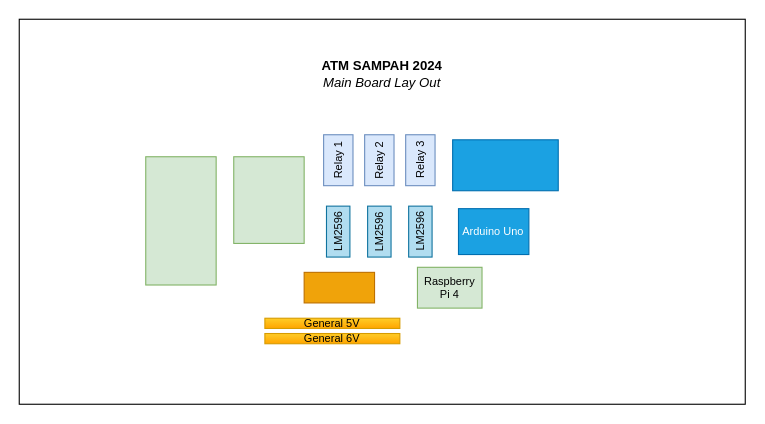
Image size: 765x424. Some labels were removed from this diagram. Here are the shapes that lost their labels. From the top down, the centre of each, then its label:
At [505,165]: "Arduino Mega 2560".
At [268,199]: "tb6600".
At [180,220]: "PSU 12v12A".
At [339,287]: "Adapter 9V 3A".
